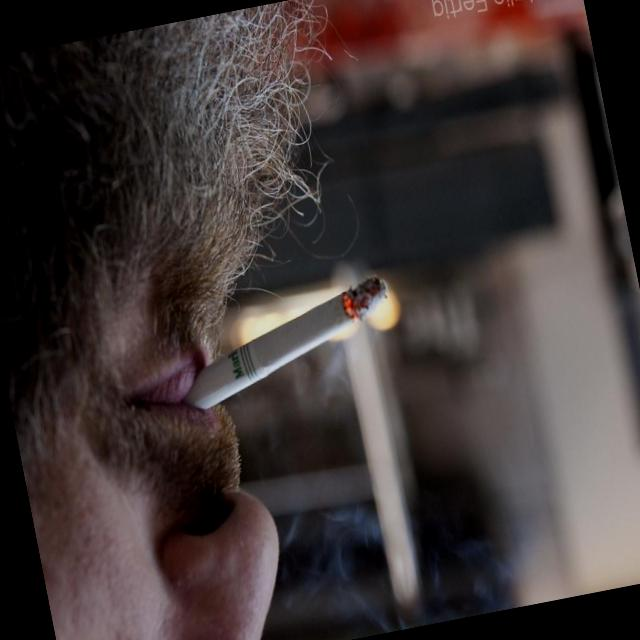smoke: (151, 243, 426, 458)
